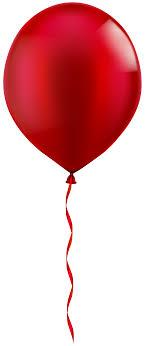red: (3, 1, 142, 173)
